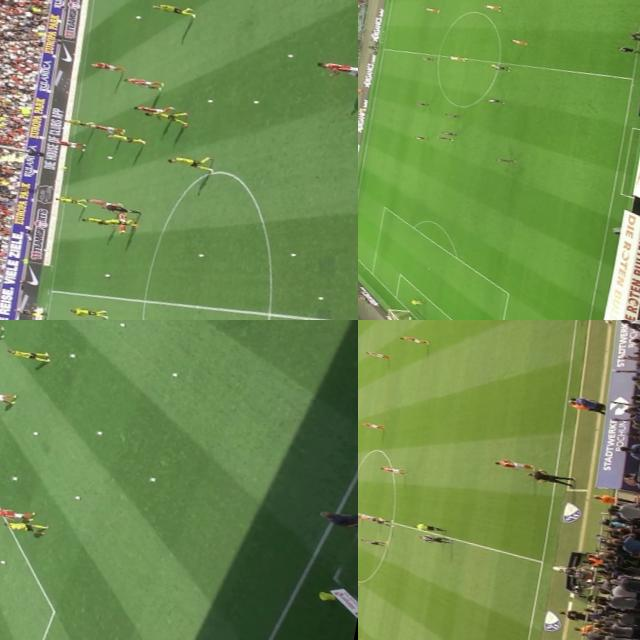ball: (66, 352, 78, 360), (284, 52, 298, 58), (115, 321, 126, 328), (132, 13, 141, 20), (314, 294, 324, 300), (70, 494, 80, 500), (30, 430, 40, 436), (168, 371, 178, 376), (204, 98, 212, 104), (249, 98, 258, 103), (92, 430, 101, 435), (10, 476, 18, 481), (100, 272, 109, 276), (0, 558, 6, 564), (105, 154, 112, 159), (286, 252, 294, 256), (148, 477, 154, 482), (196, 252, 202, 256), (462, 56, 468, 60), (378, 518, 382, 520)
player: (316, 55, 358, 84), (166, 148, 214, 170), (142, 105, 189, 125), (152, 1, 200, 18), (492, 456, 536, 473), (120, 74, 164, 90), (4, 346, 48, 362), (2, 518, 42, 535), (133, 101, 173, 116), (0, 504, 33, 521), (70, 305, 107, 320), (106, 130, 144, 144), (86, 194, 122, 208), (88, 59, 124, 73), (88, 120, 123, 134), (102, 214, 136, 228), (418, 532, 452, 546), (52, 138, 87, 150), (52, 193, 84, 206), (60, 116, 92, 129), (81, 215, 114, 227), (375, 464, 408, 476), (398, 335, 430, 346), (358, 535, 387, 546), (0, 387, 18, 404), (360, 350, 386, 360), (359, 420, 384, 430), (368, 516, 390, 526), (484, 96, 504, 105), (492, 156, 514, 164), (490, 63, 512, 71), (481, 2, 500, 11), (421, 5, 440, 14), (442, 112, 461, 120), (407, 296, 422, 306), (439, 129, 459, 136), (411, 133, 427, 141), (412, 100, 428, 108), (447, 55, 465, 62), (509, 37, 526, 44), (358, 512, 375, 519), (435, 136, 452, 141), (418, 54, 432, 60)
